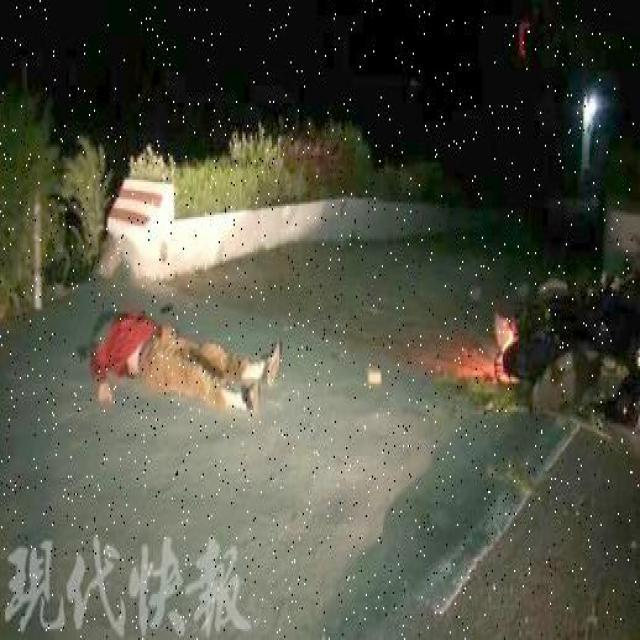fall: (82, 305, 279, 414)
